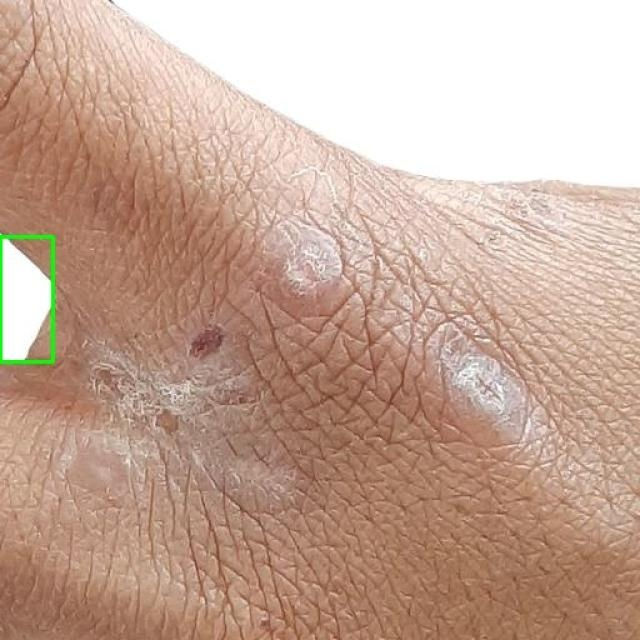Scabies: (0, 236, 52, 361)
